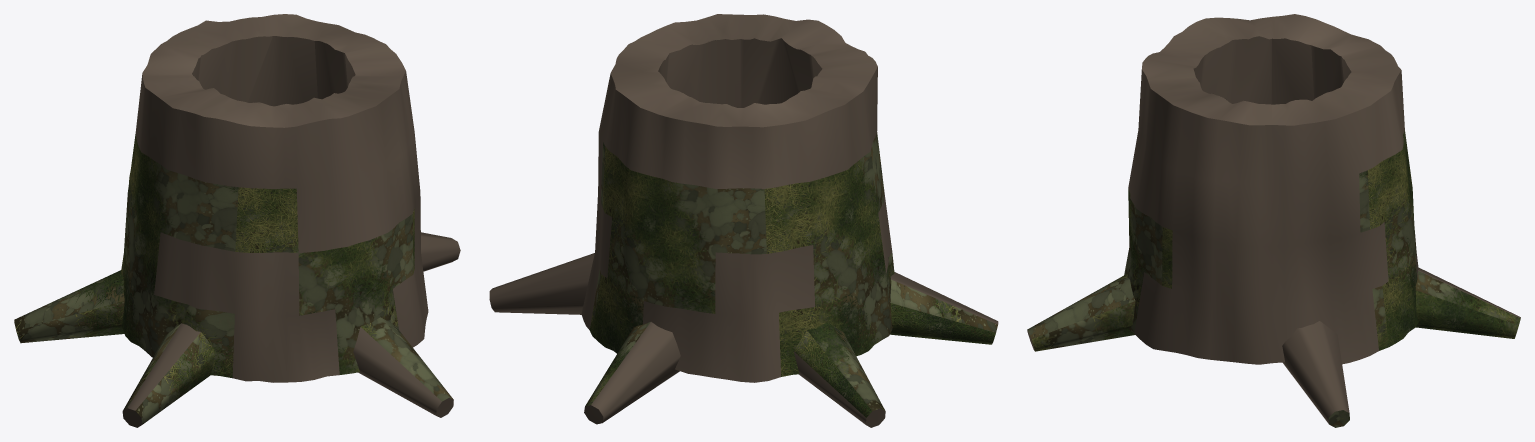
The model's file is rotten-stump-v01.glb.
The picture shows the model from 3 angles, left to right: view 1: azimuth 30°, elevation 25°; view 2: azimuth 150°, elevation 25°; view 3: azimuth 270°, elevation 25°; orthographic projection. The views are drawn at different scales.
Parts seen in each view (by area): view 1: rotten-stump; view 2: rotten-stump; view 3: rotten-stump.
Boxes of the visible parts, x1,y1,x2,y2 form: rotten-stump: (14, 14, 460, 427); rotten-stump: (489, 14, 998, 427); rotten-stump: (1027, 14, 1520, 427).
Bounding box in the file's own units: 1.91 × 1.18 × 2.01.
2 materials, 1 textured.
